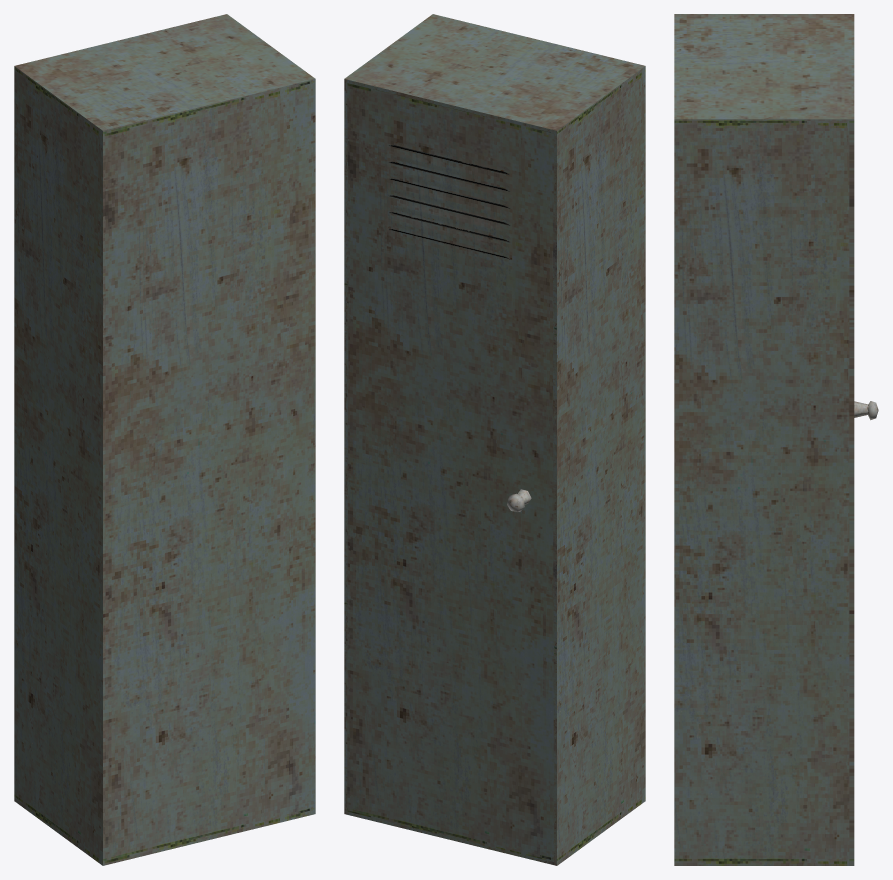
Rendered from _Locker_2.FBX.
3 renders of one model, left to right at view 1: azimuth 30°, elevation 25°; view 2: azimuth 150°, elevation 25°; view 3: azimuth 270°, elevation 25°, orthographic.
Visible parts, largest first — view 1: Locker_2_Base; view 2: Locker_2_Door, Locker_2_Base; view 3: Locker_2_Base, Locker_2_Door.
Boxes of the visible parts, <box> form: Locker_2_Base: <box>14,14,315,865</box>; Locker_2_Door: <box>347,83,553,861</box>; Locker_2_Base: <box>344,14,645,865</box>; Locker_2_Base: <box>674,14,854,865</box>; Locker_2_Door: <box>849,119,878,865</box>.
Size of the model in its own units: 50 by 165 by 40.94.
Materials: 3 (3 with a texture image).
